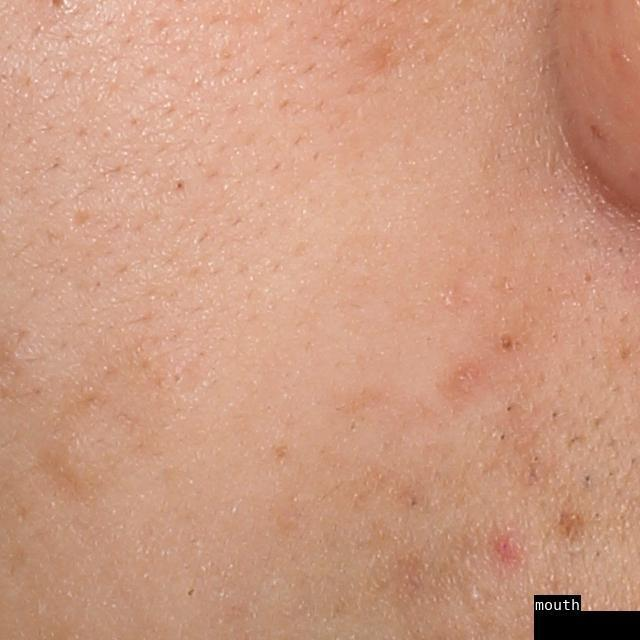comedo: (494, 330, 520, 360)
papule: (492, 529, 532, 570)
